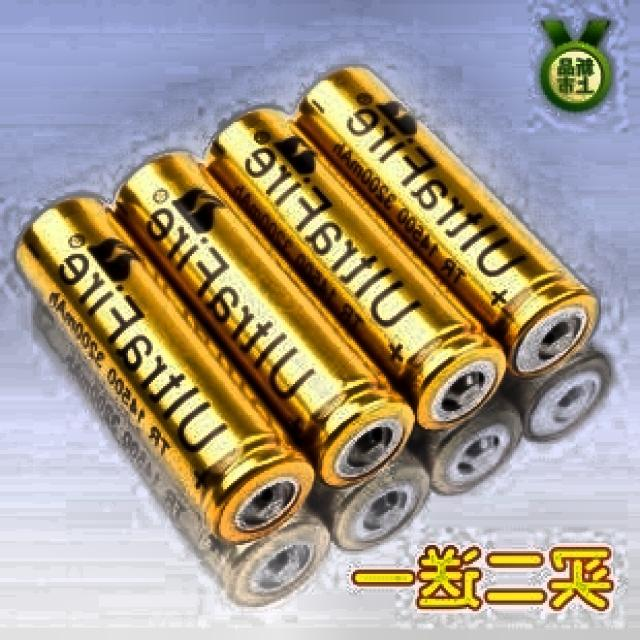Non-Valuable Waste - Batteries: (19, 197, 313, 543), (117, 154, 415, 486), (213, 109, 506, 429), (299, 67, 597, 377)
